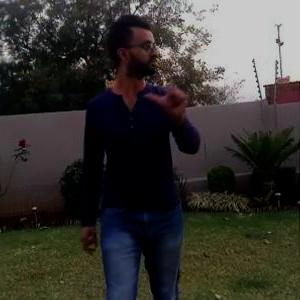land_hand: (146, 62, 195, 119)
